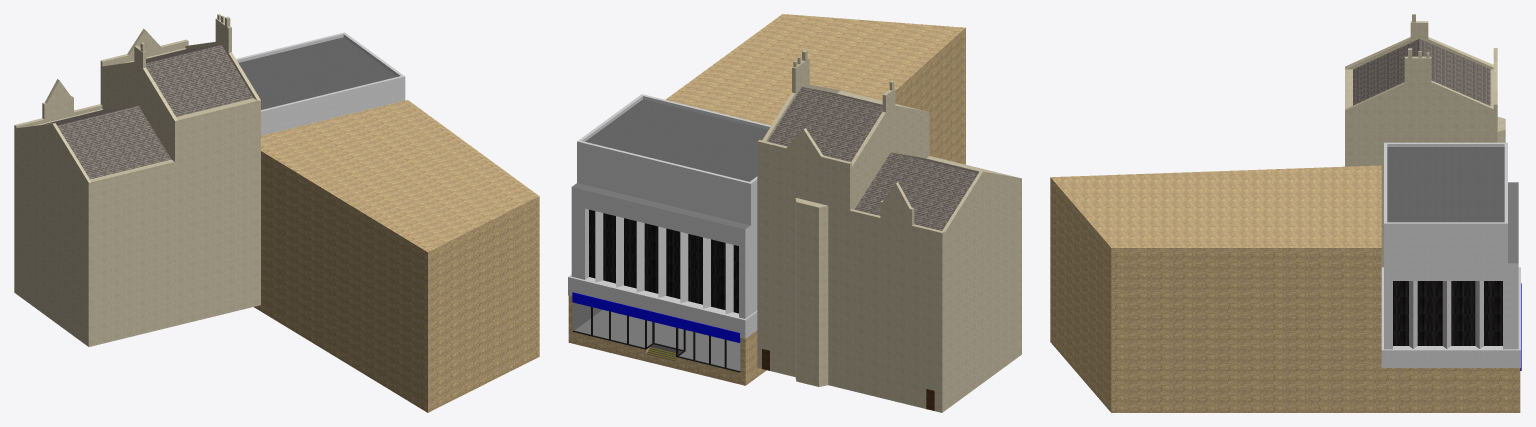
File: boots_simple.glb
3 views of the same model, side by side, from view 1: azimuth 30°, elevation 25°; view 2: azimuth 150°, elevation 25°; view 3: azimuth 270°, elevation 25° (orthographic). The views are drawn at different scales.
Visible parts, largest first — view 1: object 2, root; view 2: object 2, root; view 3: root, object 2.
Part boxes in pixels (box(x1,y1,x2,y2)): object 2: box(14, 14, 405, 346); root: box(254, 100, 539, 412); object 2: box(568, 50, 1021, 412); root: box(665, 14, 965, 164); root: box(1050, 165, 1381, 412); object 2: box(1345, 14, 1521, 412).
Size of the model in its own units: 32.38 by 25.04 by 38.13.
13 materials, 10 textured.
